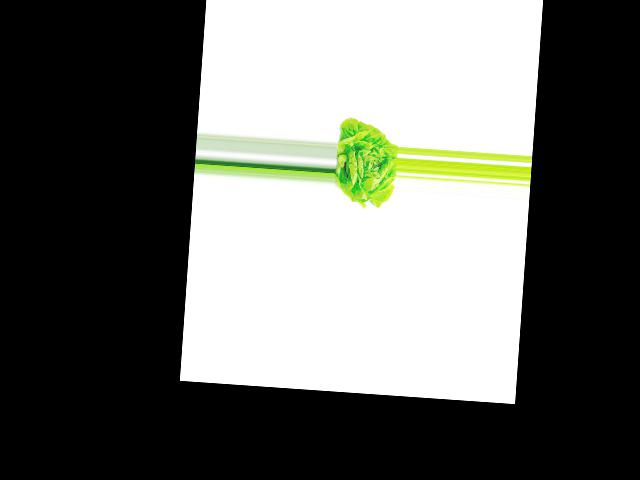lettuce: (332, 115, 400, 206)
